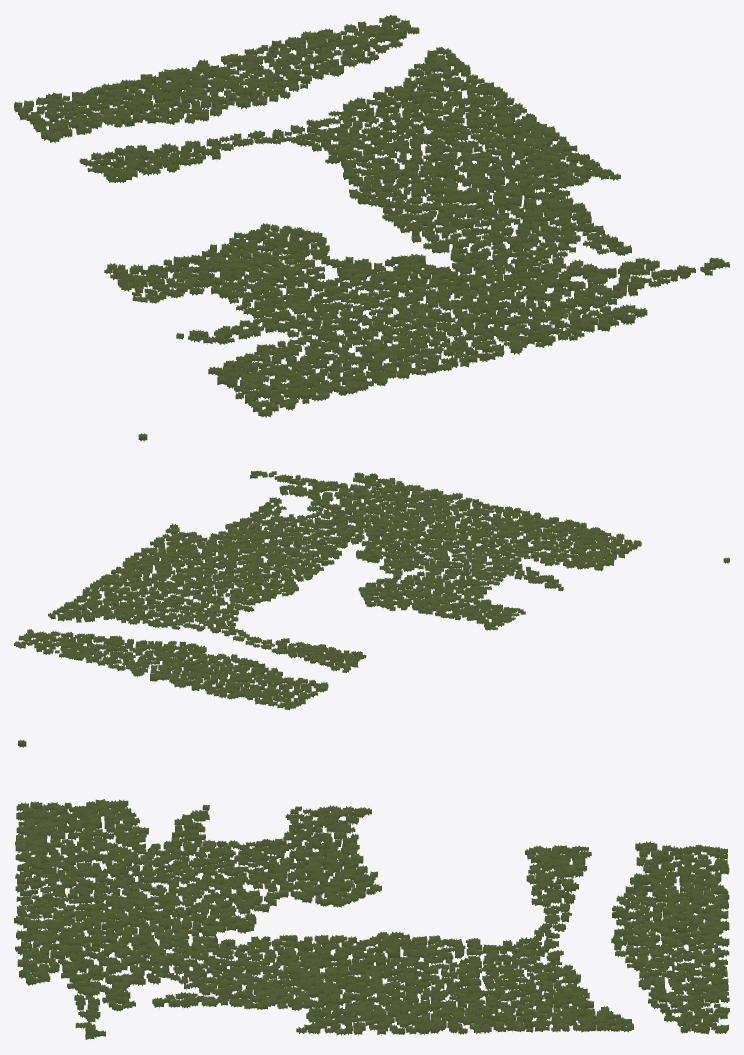
Rendered from TRB8-GRASS-CHUNK-5-4.glb.
3 renders of one model, top to bottom at view 1: azimuth 30°, elevation 25°; view 2: azimuth 150°, elevation 25°; view 3: azimuth 270°, elevation 25°, orthographic. The views are drawn at different scales.
Parts seen in each view (by area): view 1: TRB8-GRASS-CHUNK-5-4; view 2: TRB8-GRASS-CHUNK-5-4; view 3: TRB8-GRASS-CHUNK-5-4.
Boxes of the visible parts, box(x1,y1,x2,y2) form: TRB8-GRASS-CHUNK-5-4: box(14, 15, 729, 441); TRB8-GRASS-CHUNK-5-4: box(14, 470, 729, 710); TRB8-GRASS-CHUNK-5-4: box(14, 739, 729, 1039).
Size of the model in its own units: 39.28 by 1.15 by 40.56.
Materials: 1 (1 with a texture image).
